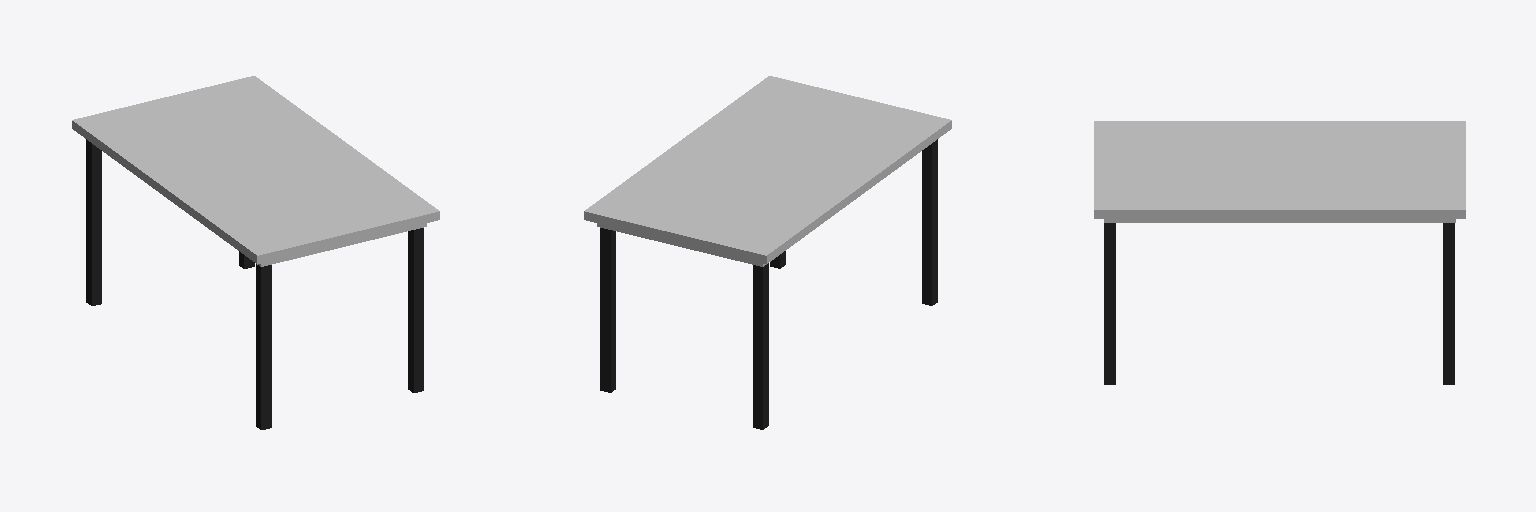
File: Tafel.obj
3 views of the same model, side by side, from view 1: azimuth 30°, elevation 25°; view 2: azimuth 150°, elevation 25°; view 3: azimuth 270°, elevation 25° (orthographic).
Parts seen in each view (by area): view 1: Cube, Cube.001; view 2: Cube, Cube.001; view 3: Cube, Cube.001.
Boxes of the visible parts, box(x1,y1,x2,y2) form: Cube: box(72, 76, 439, 266); Cube.001: box(86, 139, 423, 429); Cube: box(584, 76, 951, 266); Cube.001: box(600, 139, 937, 429); Cube: box(1094, 121, 1465, 222); Cube.001: box(1104, 223, 1454, 384).
Bounding box in the file's own units: 1.39 × 1.31 × 2.45.